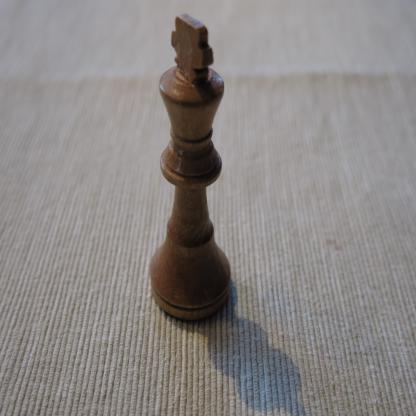white-king: (148, 12, 232, 323)
